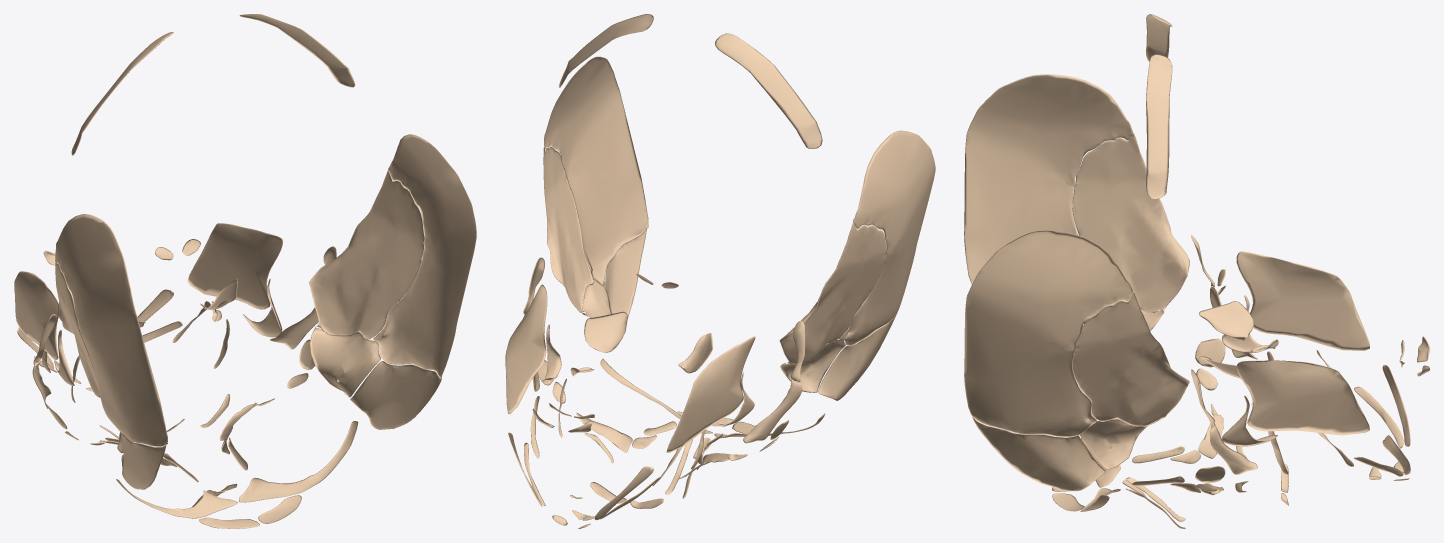
File: head__insertions.2ee84c3a90.glb
3 renders of one model, left to right at view 1: azimuth 30°, elevation 25°; view 2: azimuth 150°, elevation 25°; view 3: azimuth 270°, elevation 25°, orthographic. The views are drawn at different scales.
Parts seen in each view (by area): view 1: Temporalis muscle.o2l, Temporalis muscle.o2r, Temporalis muscle.o4l, Masseter.el, Temporalis muscle.o1l, Temporalis muscle.o3l, Masseter.er, Frontalis muscle.ol, Temporalis muscle.o1r, Occipitalis muscle.ol, Temporalis muscle.o4r, Frontalis muscle.or (+4 smaller); view 2: Temporalis muscle.o2l, Temporalis muscle.o2r, Temporalis muscle.o4r, Temporalis muscle.o4l, Masseter.er, Occipitalis muscle.or, Masseter.el, Temporalis muscle.o1r, Temporalis muscle.o1l, Occipitalis muscle.ol, Medial pterygoid muscle.ol, Temporalis muscle.o3r (+8 smaller); view 3: Temporalis muscle.o2l, Temporalis muscle.o2r, Temporalis muscle.o4r, Temporalis muscle.o4l, Masseter.er, Masseter.el, Temporalis muscle.o1l, Occipitalis muscle.ol, Temporalis muscle.o3l, Medial pterygoid muscle.or, Occipitalis muscle.or, Masseter.ol (+4 smaller).
Part boxes in pixels (x1,y1,x2,y2): Temporalis muscle.o2l: [373, 134, 476, 377]; Temporalis muscle.o2r: [55, 214, 167, 446]; Temporalis muscle.o4l: [309, 171, 424, 339]; Masseter.el: [187, 223, 283, 309]; Temporalis muscle.o1l: [350, 361, 441, 429]; Temporalis muscle.o3l: [309, 325, 380, 397]; Masseter.er: [14, 271, 58, 359]; Frontalis muscle.ol: [239, 421, 358, 502]; Temporalis muscle.o1r: [120, 432, 166, 489]; Occipitalis muscle.ol: [239, 14, 355, 87]; Temporalis muscle.o4r: [55, 252, 99, 396]; Frontalis muscle.or: [116, 479, 237, 518]; Temporalis muscle.o2l: [544, 56, 648, 284]; Temporalis muscle.o2r: [839, 130, 935, 345]; Temporalis muscle.o4r: [779, 223, 886, 364]; Temporalis muscle.o4l: [543, 147, 593, 312]; Masseter.er: [666, 336, 755, 452]; Occipitalis muscle.or: [715, 33, 822, 148]; Masseter.el: [505, 284, 547, 414]; Temporalis muscle.o1r: [818, 310, 898, 400]; Temporalis muscle.o1l: [603, 229, 646, 318]; Occipitalis muscle.ol: [558, 14, 653, 87]; Medial pterygoid muscle.ol: [584, 311, 627, 352]; Temporalis muscle.o3r: [780, 339, 845, 392]; Temporalis muscle.o2l: [964, 230, 1133, 437]; Temporalis muscle.o2r: [964, 74, 1133, 284]; Temporalis muscle.o4r: [1072, 133, 1189, 312]; Temporalis muscle.o4l: [1072, 293, 1189, 426]; Masseter.er: [1236, 251, 1369, 350]; Masseter.el: [1236, 360, 1369, 435]; Temporalis muscle.o1l: [972, 417, 1105, 491]; Occipitalis muscle.ol: [1146, 54, 1172, 199]; Temporalis muscle.o3l: [1079, 417, 1164, 469]; Medial pterygoid muscle.or: [1199, 301, 1253, 340]; Occipitalis muscle.or: [1146, 14, 1172, 61]; Masseter.ol: [1210, 424, 1257, 474].
Bounding box in the file's own units: 144 × 192 × 166.
